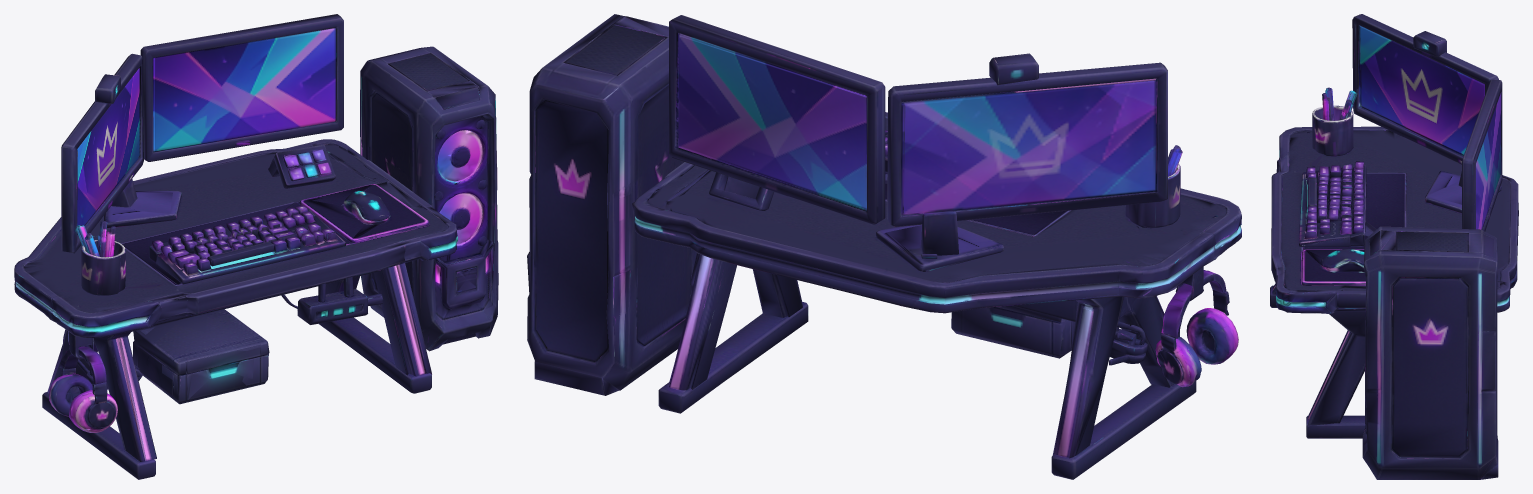
The model's file is gaming-station.glb.
3 views of the same model, side by side, from view 1: azimuth 30°, elevation 25°; view 2: azimuth 150°, elevation 25°; view 3: azimuth 270°, elevation 25° (orthographic). The views are drawn at different scales.
Size of the model in its own units: 0.9531 by 0.6182 by 0.481.
Materials: 1 (1 with a texture image).
